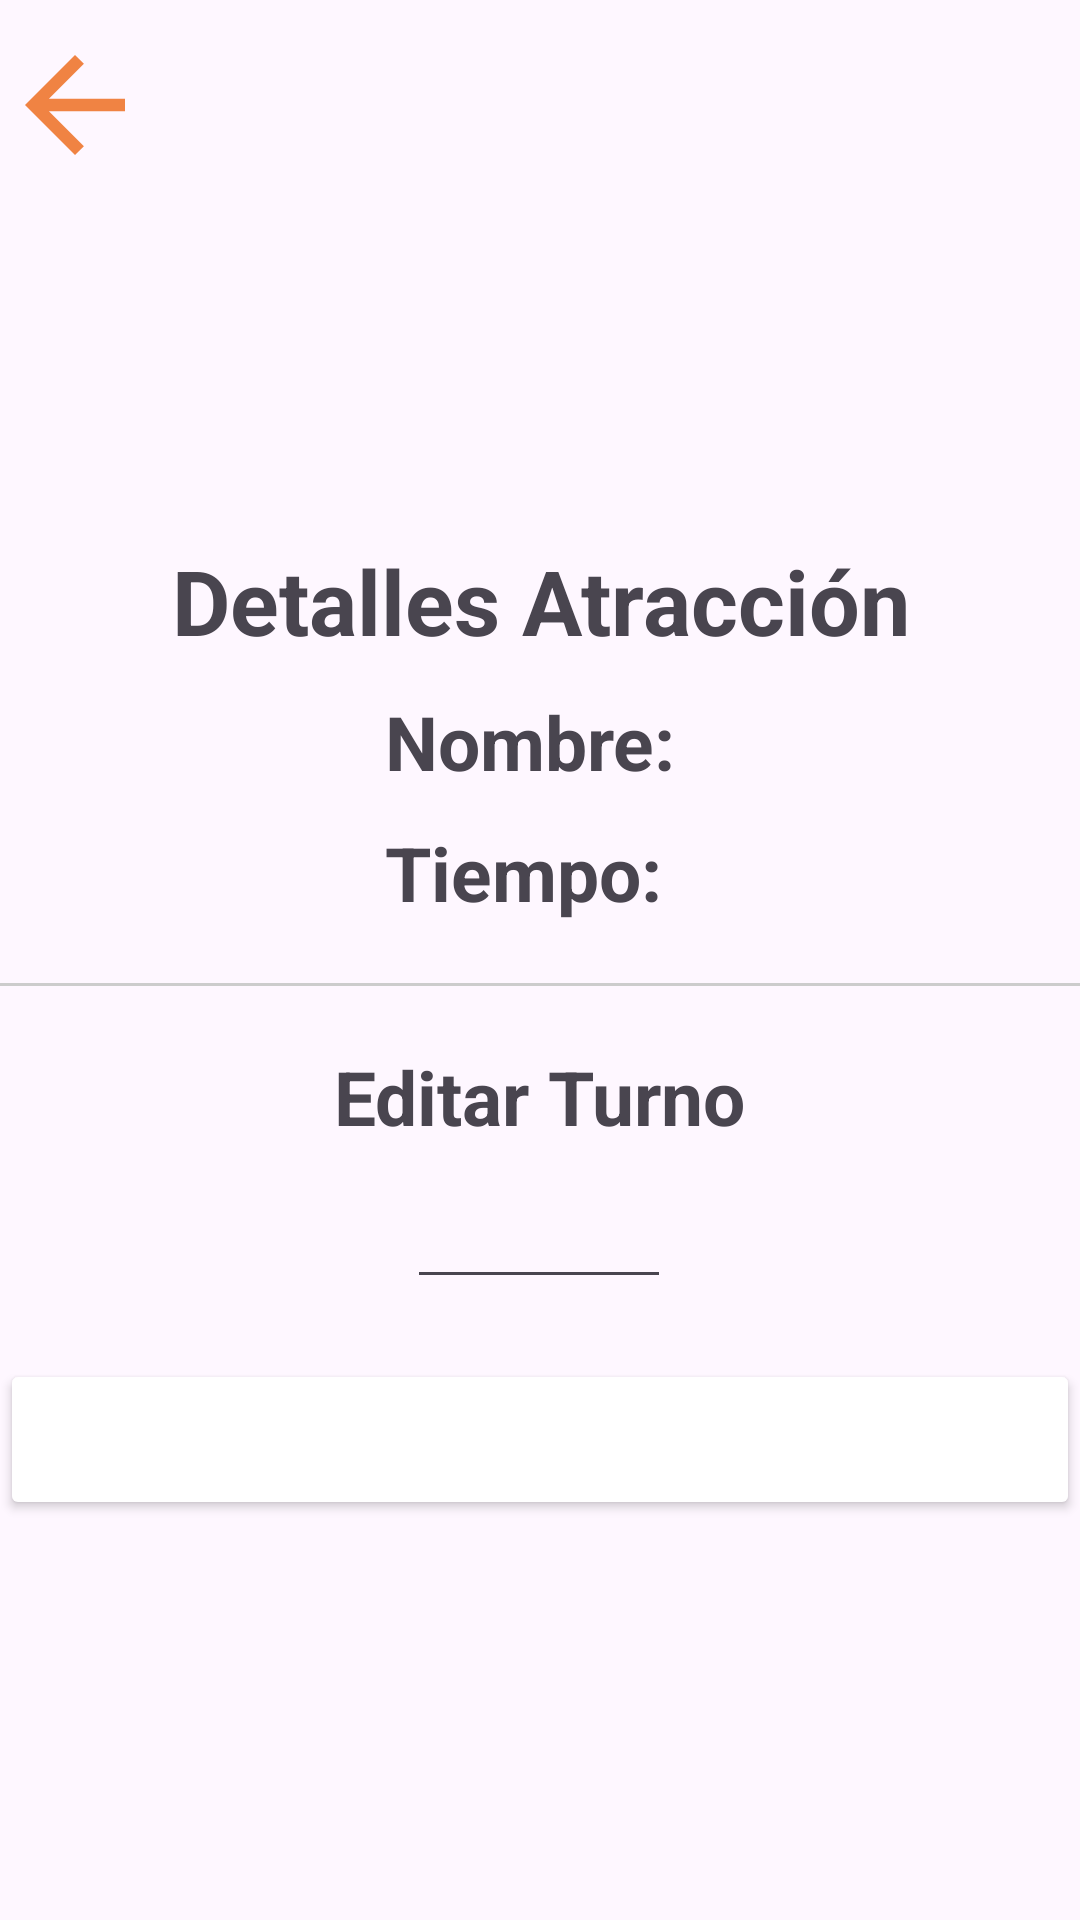

Icon click points for this 1080w x 1920h phone screenshot, format [x,y]:
back: [75,105]
